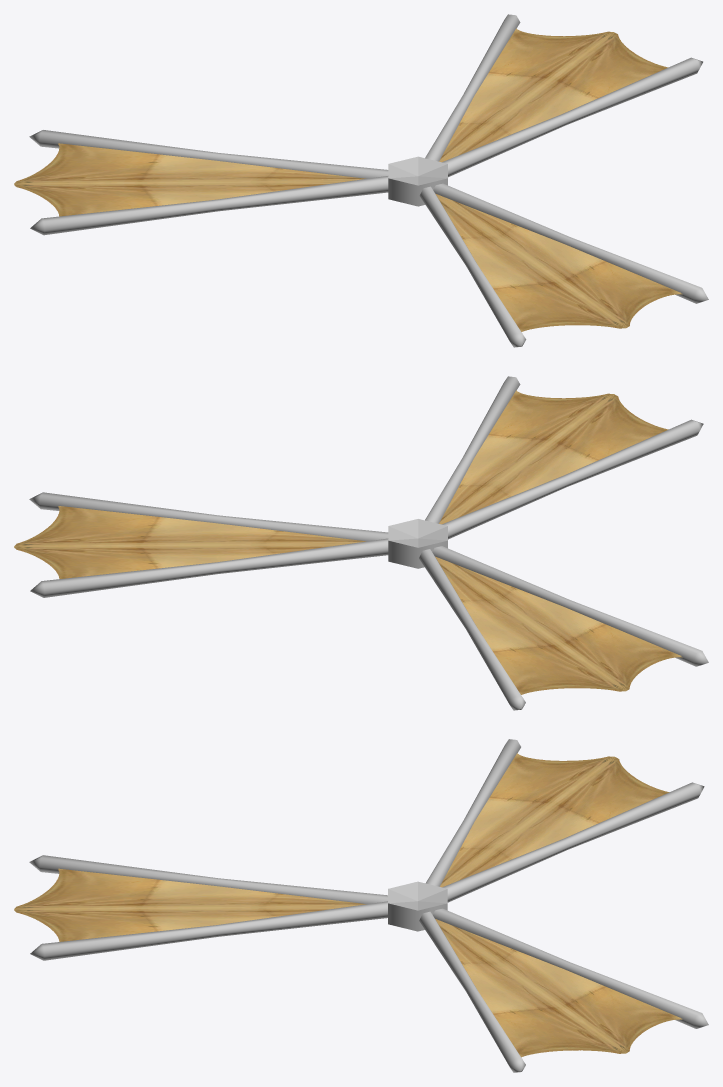
The model's file is environment_Building_bangpai_001_f.FBX.
3 views of the same model, one above another, from view 1: azimuth 30°, elevation 25°; view 2: azimuth 150°, elevation 25°; view 3: azimuth 270°, elevation 25° (orthographic).
Parts seen in each view (by area): view 1: environment_Building_bangpai_001_f03, environment_Building_bangpai_001_f01, environment_Building_bangpai_001_f02; view 2: environment_Building_bangpai_001_f03, environment_Building_bangpai_001_f01, environment_Building_bangpai_001_f02; view 3: environment_Building_bangpai_001_f03, environment_Building_bangpai_001_f01, environment_Building_bangpai_001_f02.
Part boxes in pixels (left/top/right/bottom): environment_Building_bangpai_001_f03: left=14, top=28, right=682, bottom=331; environment_Building_bangpai_001_f01: left=29, top=14, right=708, bottom=347; environment_Building_bangpai_001_f02: left=388, top=156, right=447, bottom=206; environment_Building_bangpai_001_f03: left=14, top=390, right=682, bottom=694; environment_Building_bangpai_001_f01: left=29, top=376, right=708, bottom=710; environment_Building_bangpai_001_f02: left=388, top=519, right=447, bottom=568; environment_Building_bangpai_001_f03: left=14, top=753, right=682, bottom=1057; environment_Building_bangpai_001_f01: left=29, top=739, right=708, bottom=1072; environment_Building_bangpai_001_f02: left=388, top=881, right=447, bottom=931.
Size of the model in its own units: 573 by 509 by 16.95.
